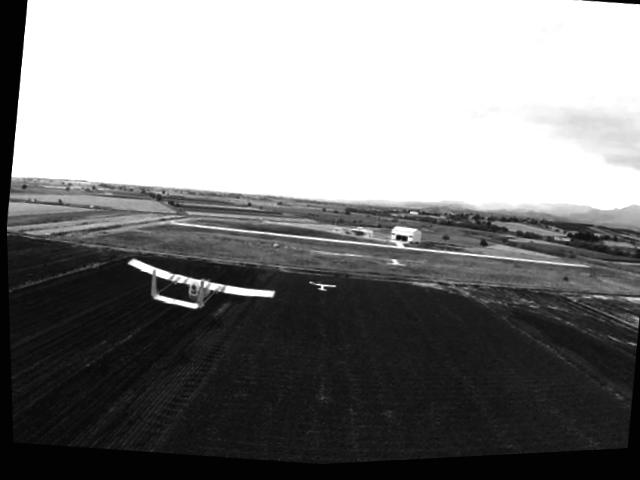hedef: (108, 243, 279, 339)
